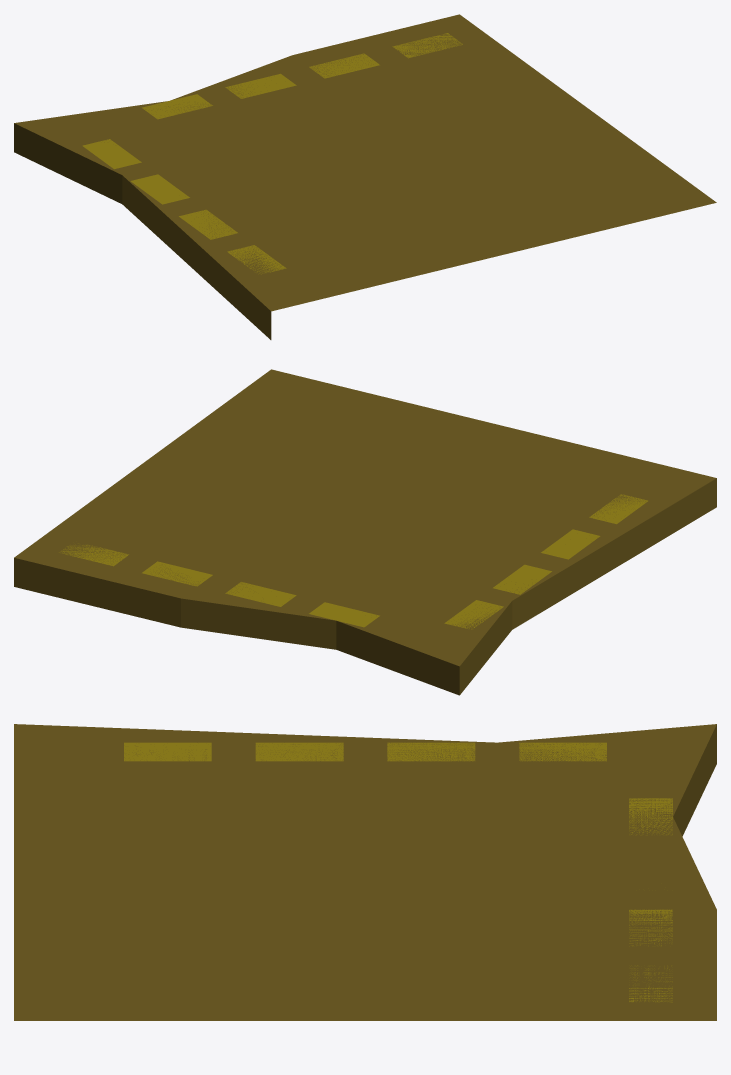
3 views of the same model, one above another, from view 1: azimuth 30°, elevation 25°; view 2: azimuth 150°, elevation 25°; view 3: azimuth 270°, elevation 25° (orthographic). The views are drawn at different scales.
Size of the model in its own units: 64 by 4 by 64.
1 material, 1 textured.
